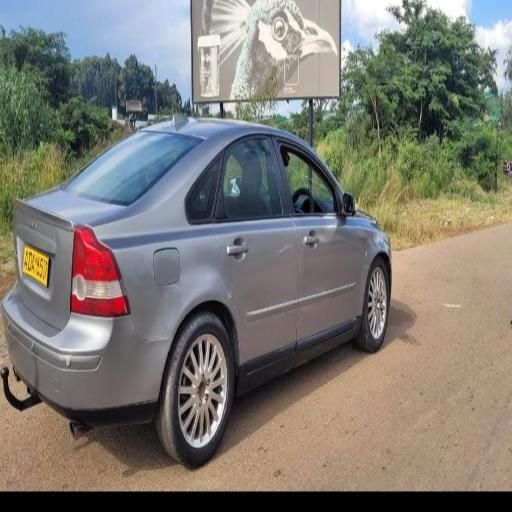number-plates: (23, 240, 50, 278)
